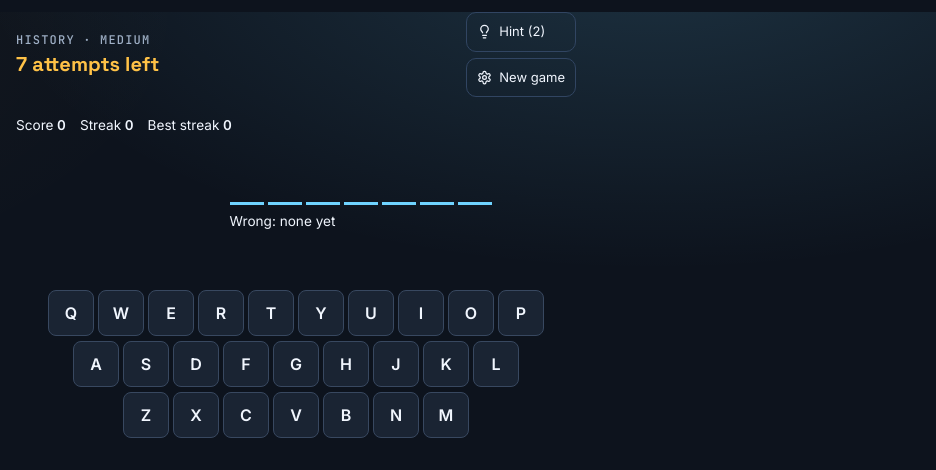
Test: Hangman component › offers all ten categories and three difficulties, and plays the chosen one
Click the button "New game" at coordinates (521, 77), box x1=466 y1=58 x2=576 y2=97
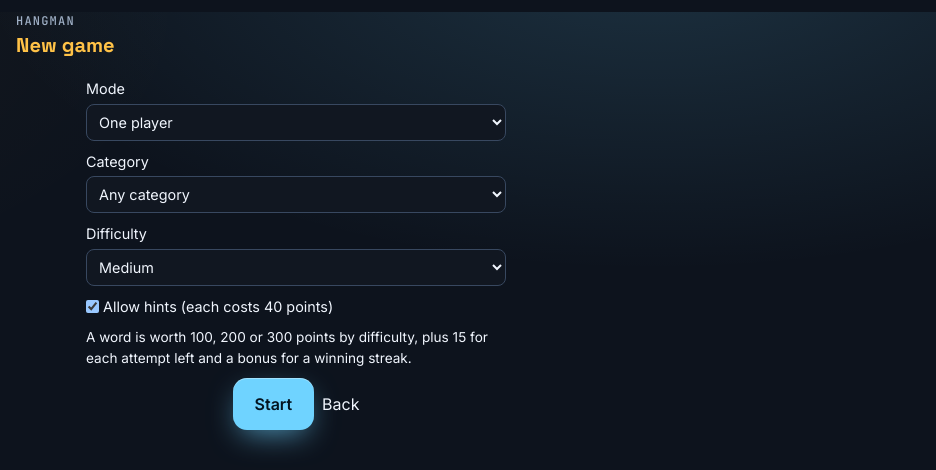
Select "Sports" in the dropdown labelled "Category" at coordinates (296, 195), box x1=86 y1=176 x2=506 y2=213
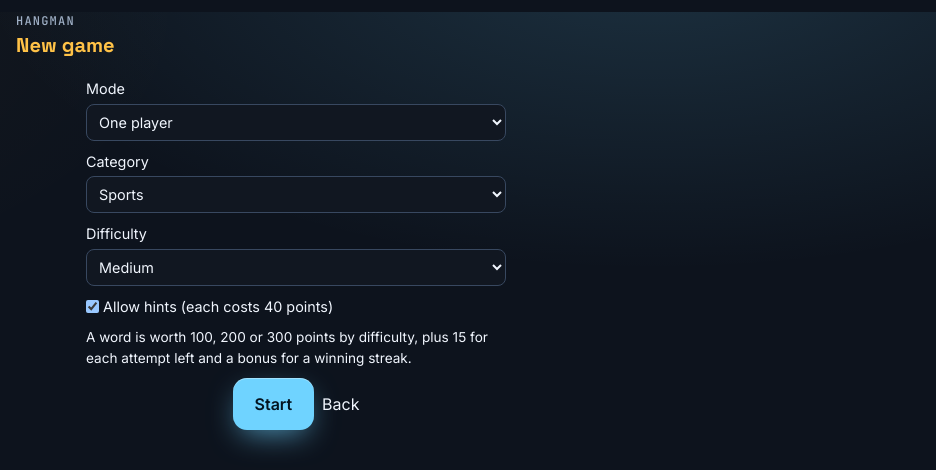
Select "Easy" in the dropdown labelled "Difficulty" at coordinates (296, 267), box x1=86 y1=249 x2=506 y2=286
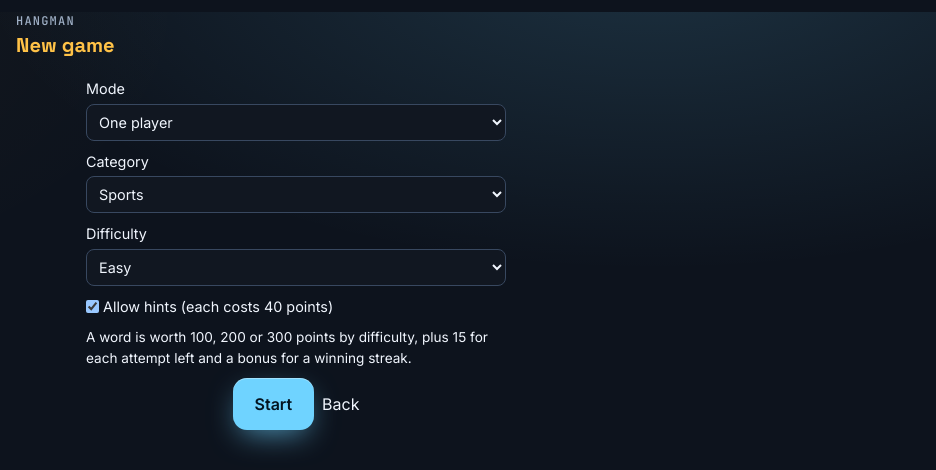
Click the button "Start" at coordinates (273, 404), box x1=232 y1=378 x2=314 y2=430
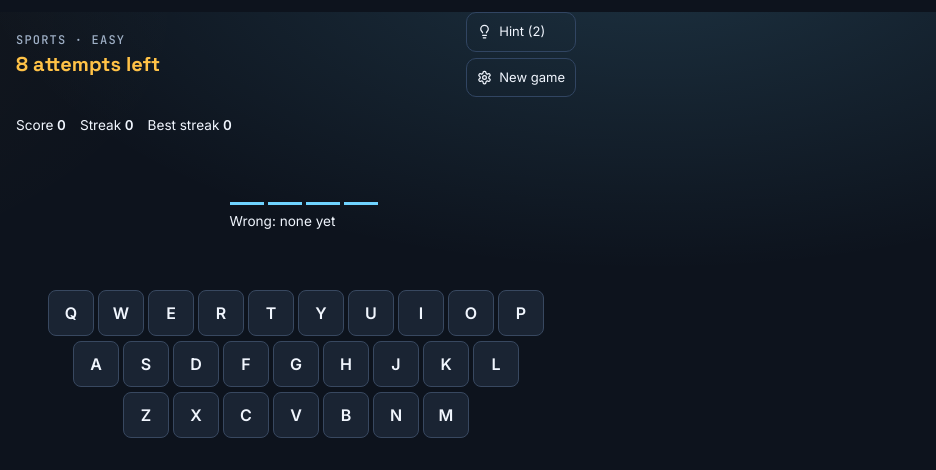
Expected: the text "Sports · Easy" is shown, x1=16 y1=32 x2=125 y2=48
